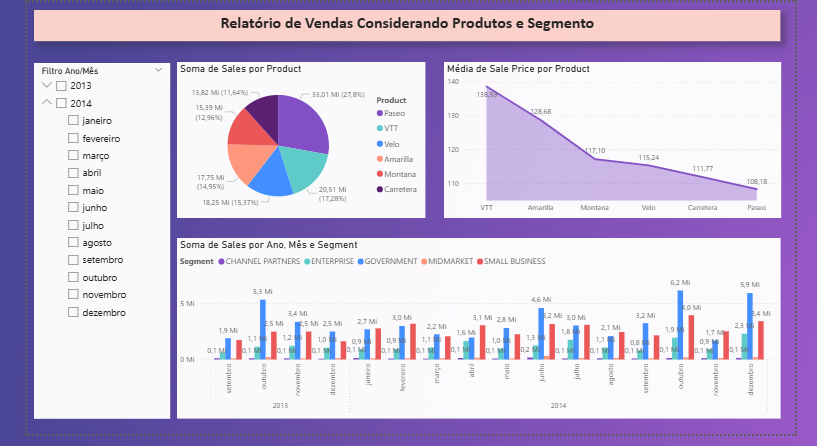

Layout of this report page (visuals, bound fields, positions):
{"tool":"powerbi","page":{"name":"Página 1","canvas":[1280,720],"ordinal":0},"visuals":[{"type":"pieChart","fields":{"Category":["financials.Product"],"Y":["Sum(financials. Sales)"]},"box":[250.3,99.8,414.4,259.8],"z":0},{"type":"areaChart","fields":{"Category":["financials.Product"],"Y":["Avg(financials.Sale Price)"]},"box":[694.3,100.4,562.3,259.8],"z":1000},{"type":"clusteredColumnChart","fields":{"Y":["Sum(financials. Sales)"],"Category":["financials.Date.Variation.Hierarquia de datas.Ano","financials.Date.Variation.Hierarquia de datas.Mês"],"Series":["financials.Segment"]},"box":[250.3,393.8,1006.5,300.9],"z":2000},{"type":"slicer","fields":{"Values":["financials.Date.Variation.Hierarquia de datas.Ano","financials.Date.Variation.Hierarquia de datas.Mês"]},"box":[11.7,101,226.8,592.7],"z":3000},{"type":"textbox","box":[17.6,13.2,1245.4,52.7],"z":4000}]}

Visuals, with their boxes on the page's 1280x720 design canvas (x1, y1, x2, y2). These are canvas units, not pixel positions in the 817x446 screenshot, which may show the page scaled, cropped or inside an application window:
pieChart - financials.Product x Sum(financials. Sales): 250, 100, 665, 360
areaChart - financials.Product x Avg(financials.Sale Price): 694, 100, 1257, 360
clusteredColumnChart - Sum(financials. Sales) x financials.Date.Variation.Hierarquia de datas.Ano: 250, 394, 1257, 695
slicer - financials.Date.Variation.Hierarquia de datas.Ano x financials.Date.Variation.Hierarquia de datas.Mês: 12, 101, 238, 694
textbox: 18, 13, 1263, 66
